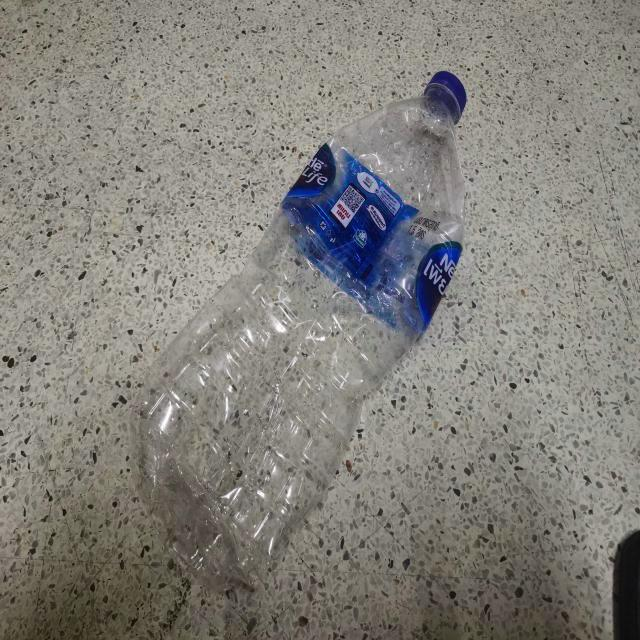bottle: (130, 71, 467, 593)
